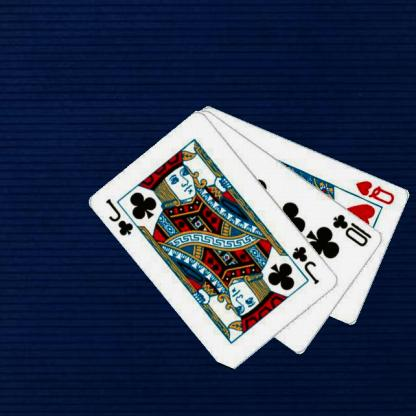10C: (330, 211, 373, 248)
JC: (289, 243, 321, 286), (103, 196, 135, 237)
QH: (353, 178, 397, 206)
